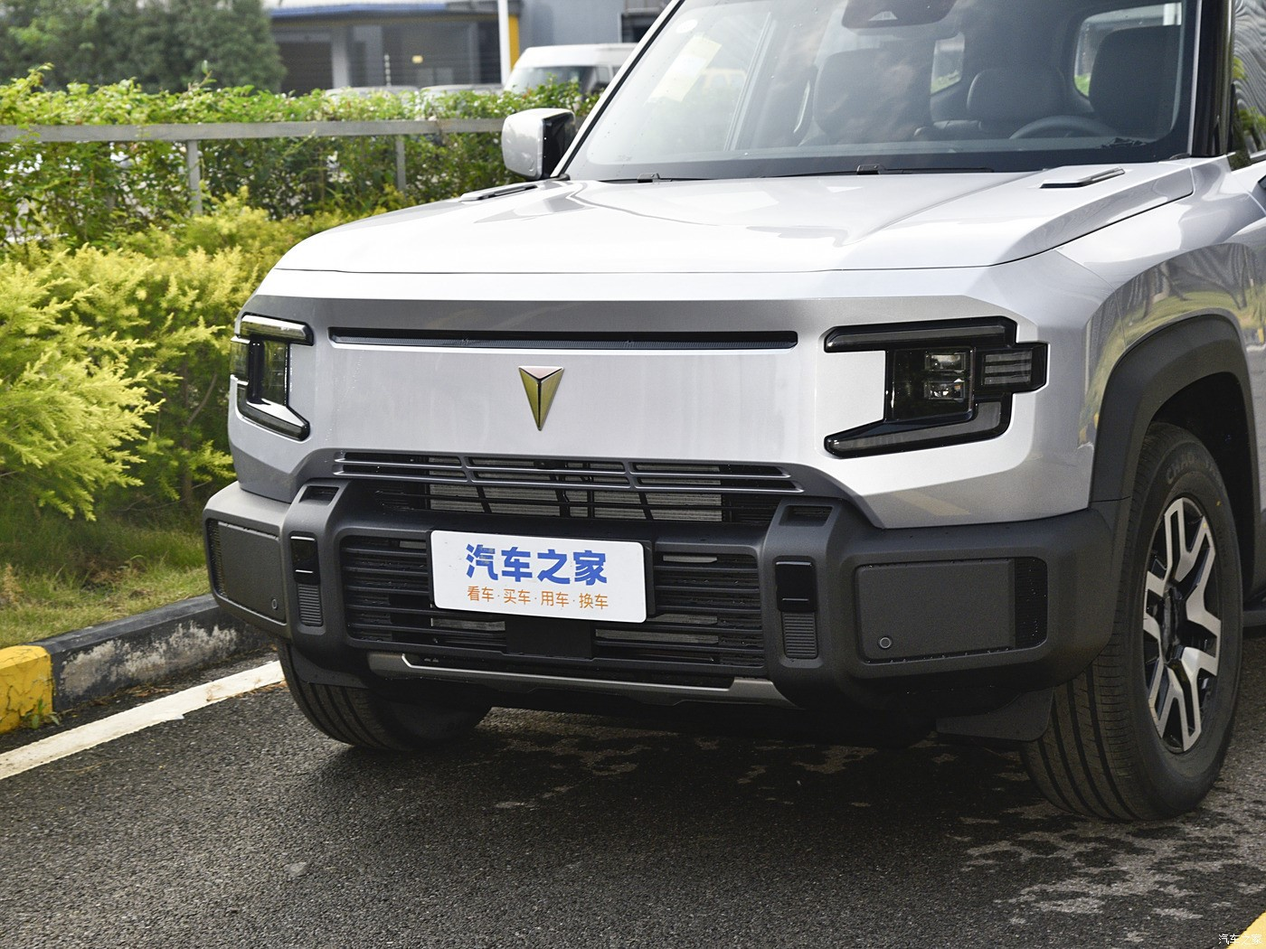Deepal: (519, 365, 564, 431)
